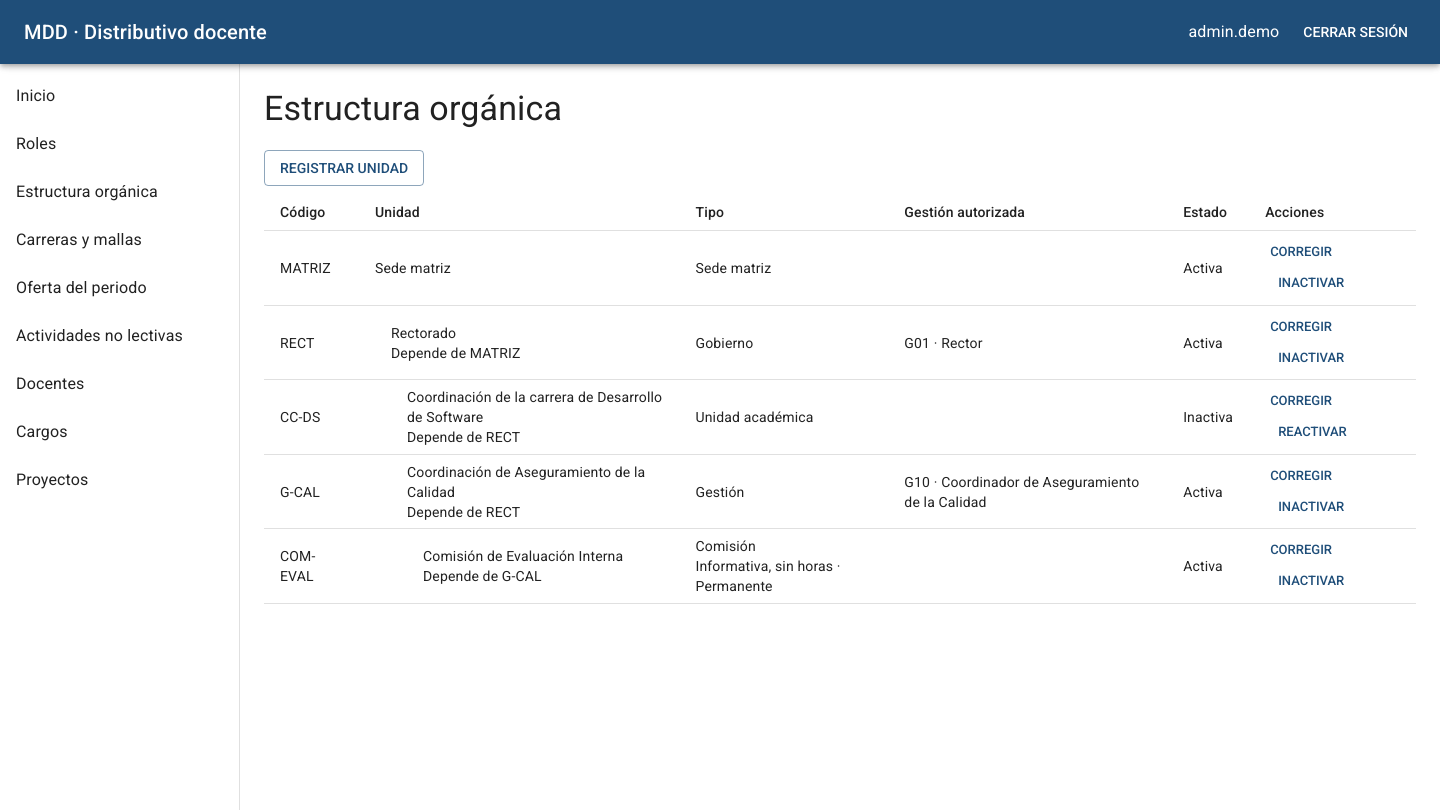
Scenario: Estructura orgánica › corrige una unidad sin cambiar su código ni su tipo
This screenshot has width=1440, height=810.
Click the button with aria-label "Corregir G-CAL" at (1301, 476), box [1265,461,1337,492]
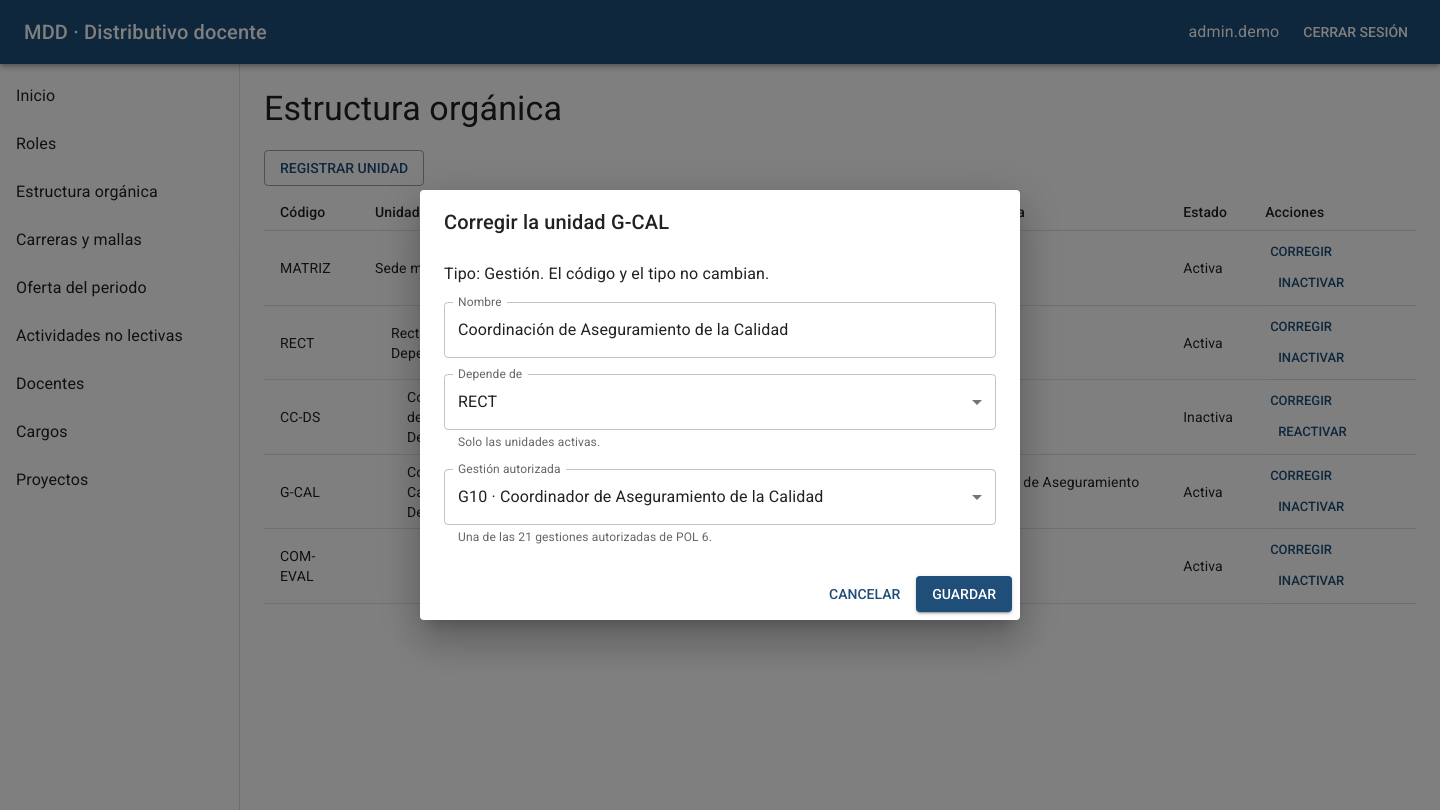
Expected: the dialog "Corregir la unidad G-CAL" shows "Gestión", [444,264,769,283]
Replace the text in the field labelled "Nombre" with "Gestión de la Calidad" at (720, 330), box [444,302,996,358]
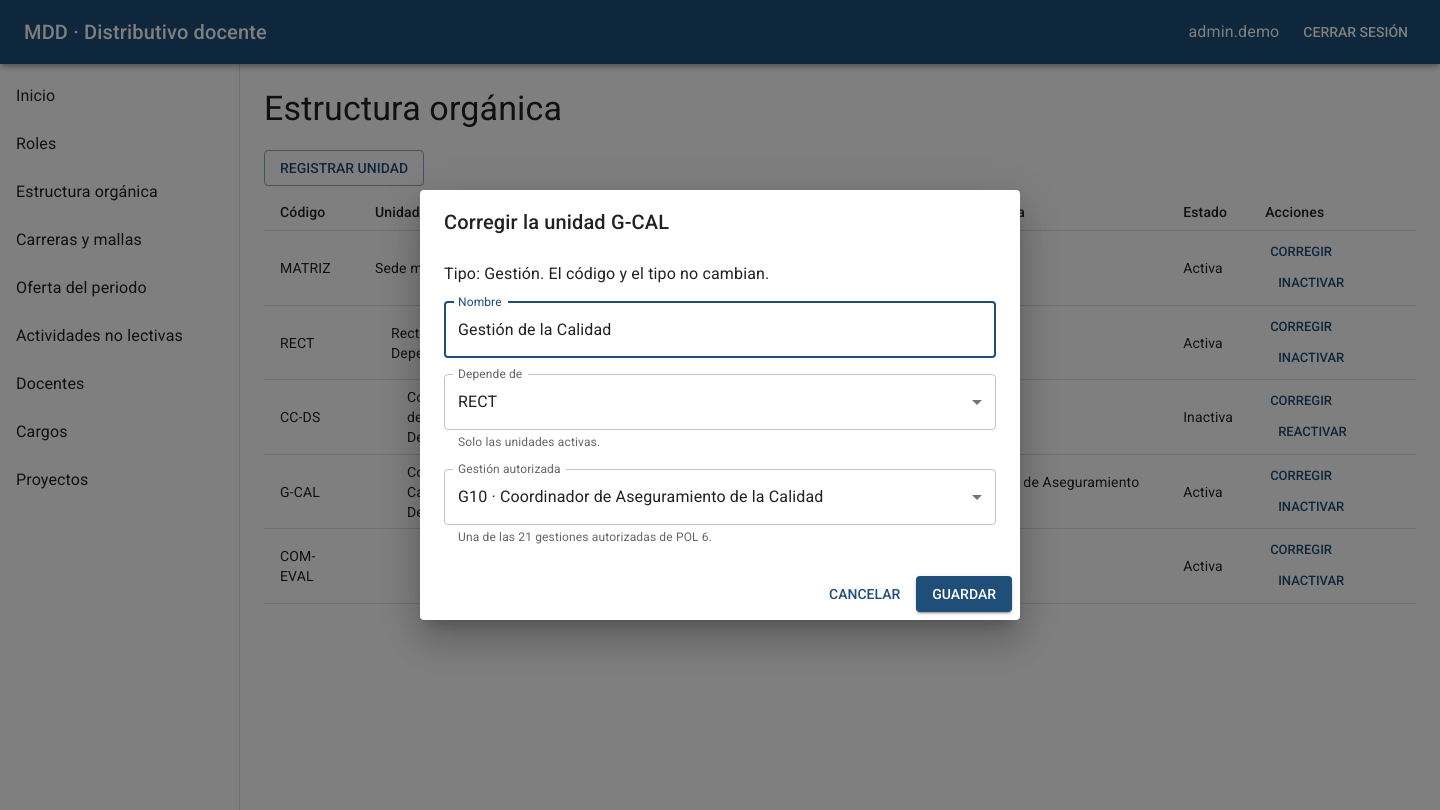
Select "MATRIZ" in the dropdown labelled "Depende de" at (720, 402), box [444,374,996,430]
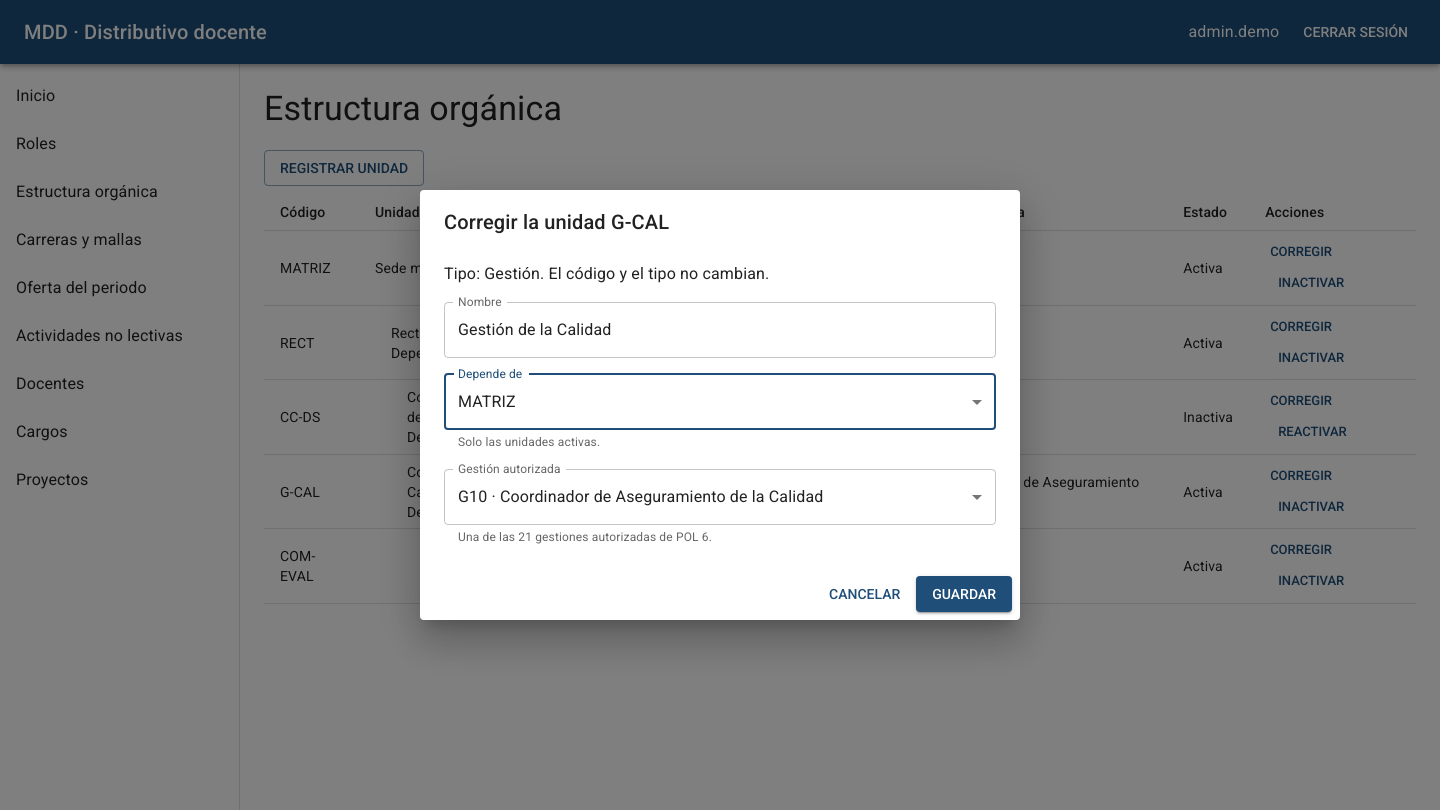
Click the button "Guardar" at (964, 594), box [916,576,1012,612]
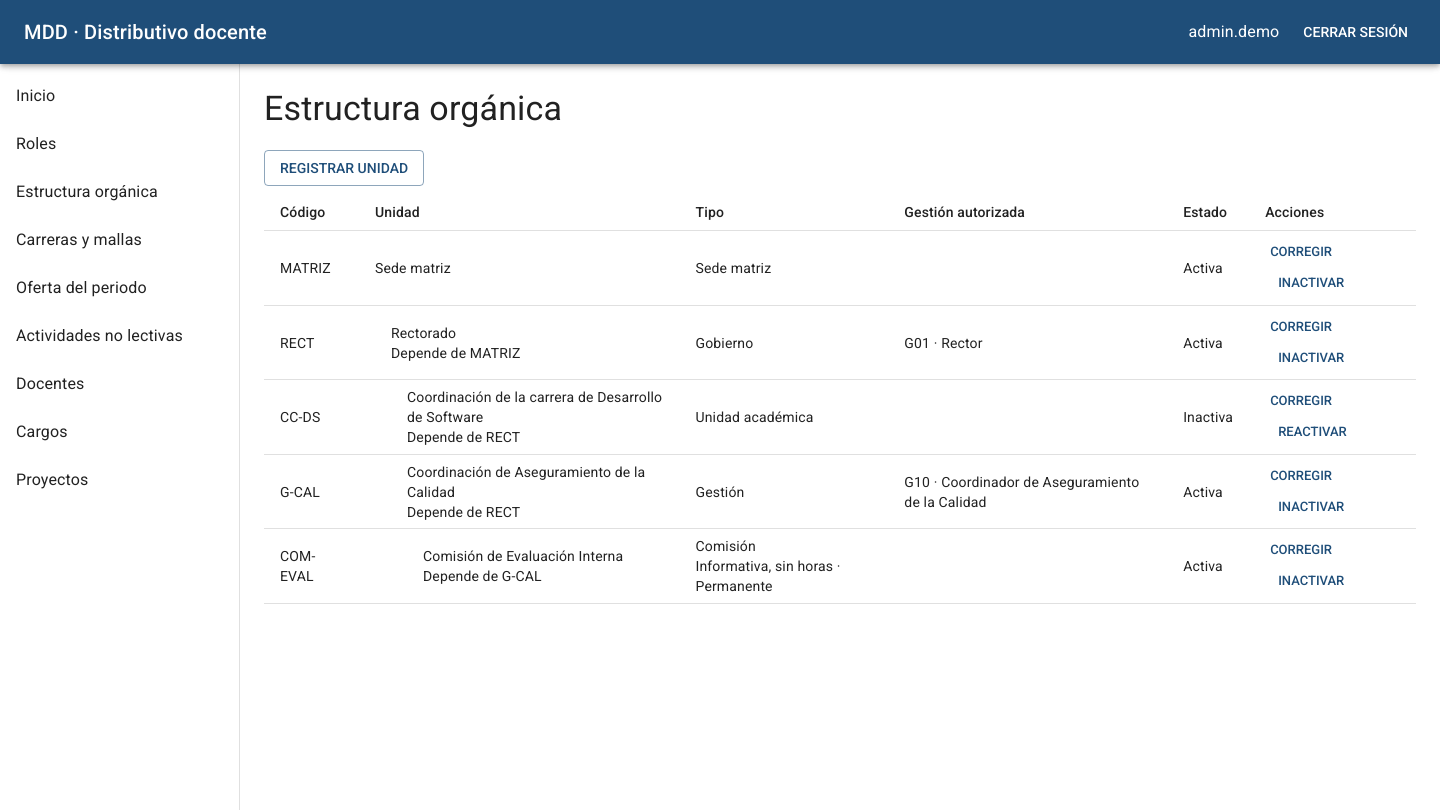
Expected: the dialog is gone
